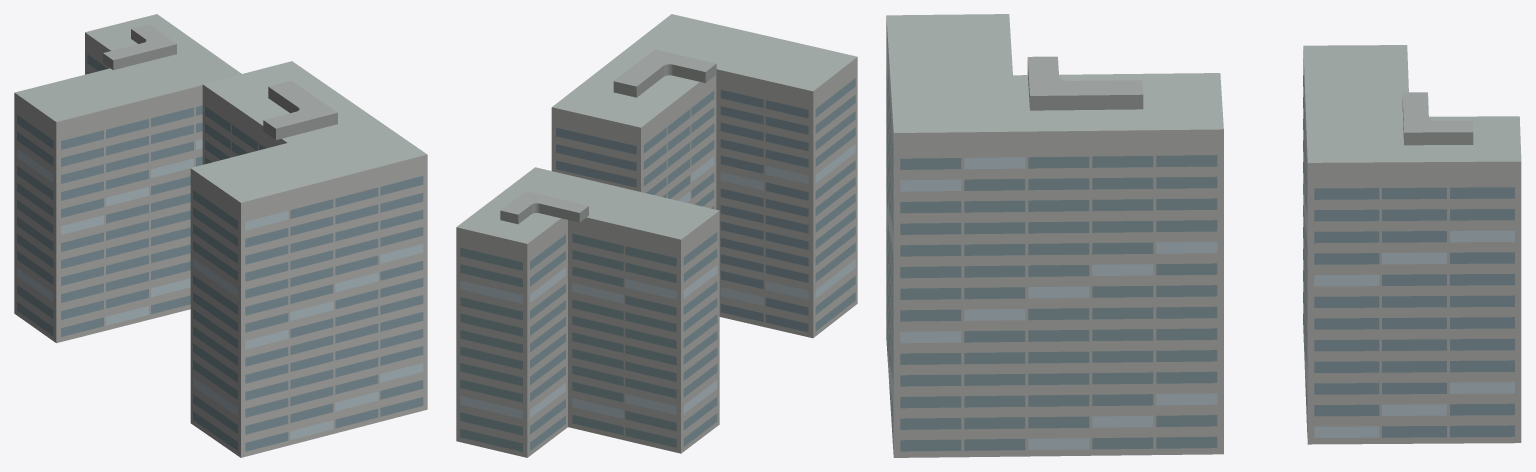
File: apt-a13486601.glb
The picture shows the model from 3 angles, left to right: view 1: azimuth 30°, elevation 25°; view 2: azimuth 150°, elevation 25°; view 3: azimuth 270°, elevation 25°; orthographic projection. The views are drawn at different scales.
Parts seen in each view (by area): view 1: apt-a13486601; view 2: apt-a13486601; view 3: apt-a13486601.
Part boxes in pixels (<box>): apt-a13486601: <box>14,14,427,457</box>; apt-a13486601: <box>456,14,857,457</box>; apt-a13486601: <box>886,14,1521,457</box>.
Bounding box in the file's own units: 39.74 × 47.81 × 81.09.
